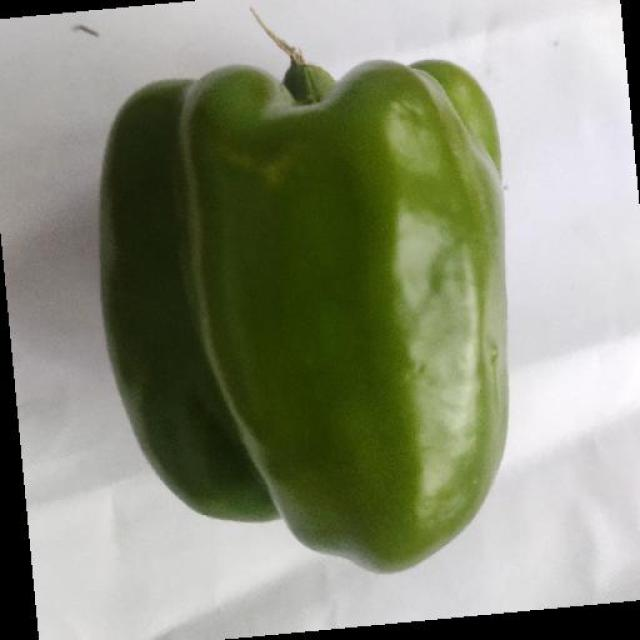Stale_Capsicum: (106, 87, 374, 548)
